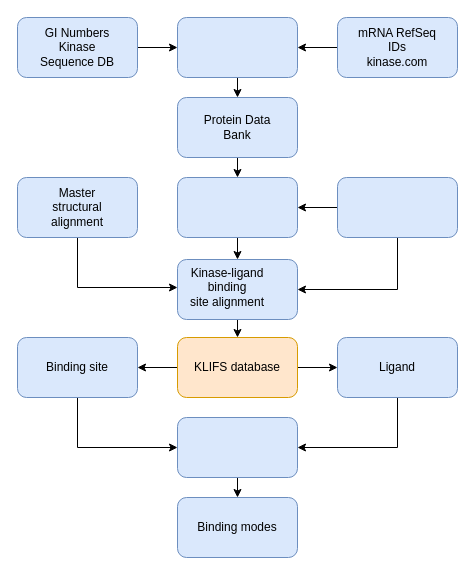
The diagram is 475 pixels wide and 575 high, and some of its shapes have lost their labels. Each missing label, with the centre of its shape:
"BLAST" belongs at point (237, 207).
"IFP" belongs at point (237, 447).
"Master sequence alignment" belongs at point (397, 207).
"Uniprot Acc. numbers BIODBNET" belongs at point (237, 47).
